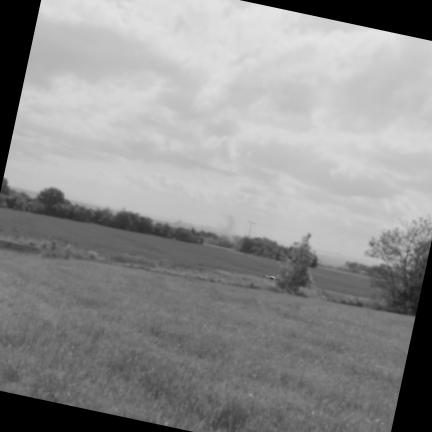Shahed: (264, 275, 279, 280)
